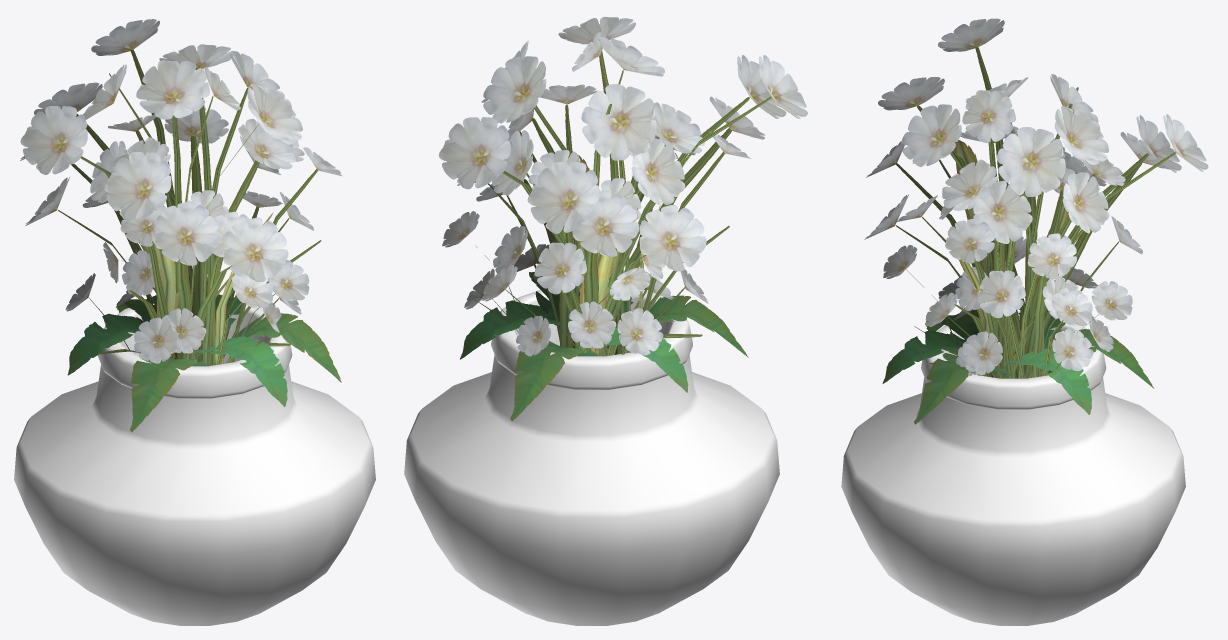
The model's file is SM_Potted_White2_Flower_B.fbx.
3 renders of one model, left to right at view 1: azimuth 30°, elevation 25°; view 2: azimuth 150°, elevation 25°; view 3: azimuth 270°, elevation 25°, orthographic. The views are drawn at different scales.
Parts seen in each view (by area): view 1: SM_Potted_White2_Flower_B_LOD0; view 2: SM_Potted_White2_Flower_B_LOD0; view 3: SM_Potted_White2_Flower_B_LOD0.
Boxes of the visible parts, left/top/right/bottom form: SM_Potted_White2_Flower_B_LOD0: left=14, top=19, right=375, bottom=625; SM_Potted_White2_Flower_B_LOD0: left=404, top=16, right=807, bottom=625; SM_Potted_White2_Flower_B_LOD0: left=841, top=18, right=1208, bottom=625.
Bounding box in the file's own units: 46.86 × 46.2 × 69.81.
2 materials, 1 textured.
